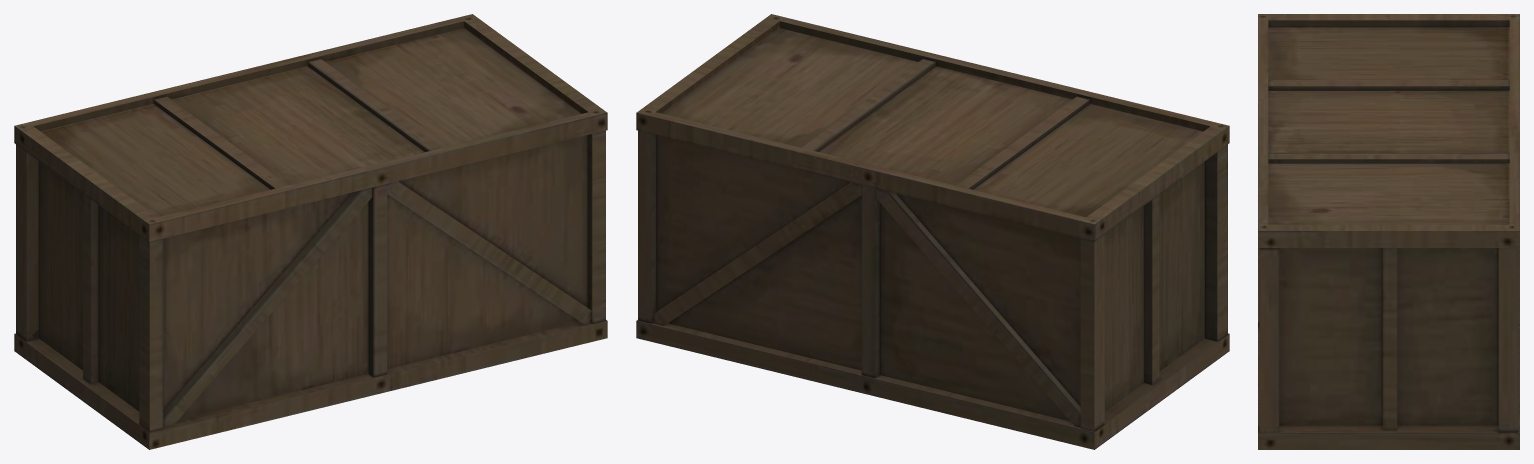
File: crate_long.l.ec14d1ab.glb
3 renders of one model, left to right at view 1: azimuth 30°, elevation 25°; view 2: azimuth 150°, elevation 25°; view 3: azimuth 270°, elevation 25°, orthographic. The views are drawn at different scales.
Visible parts, largest first — view 1: crate2; view 2: crate2; view 3: crate2.
Part boxes in pixels (x1,y1,x2,y2): crate2: [14, 14, 607, 449]; crate2: [636, 14, 1229, 449]; crate2: [1258, 14, 1519, 449].
Bounding box in the file's own units: 1.72 × 0.81 × 0.8784.
Materials: 1 (1 with a texture image).
